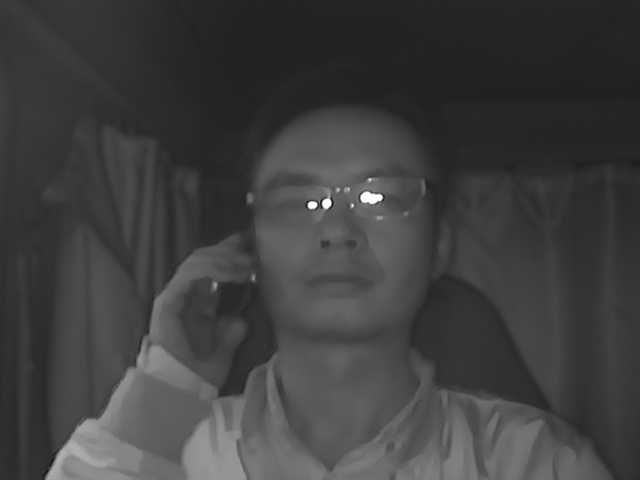hand: (149, 233, 249, 379)
